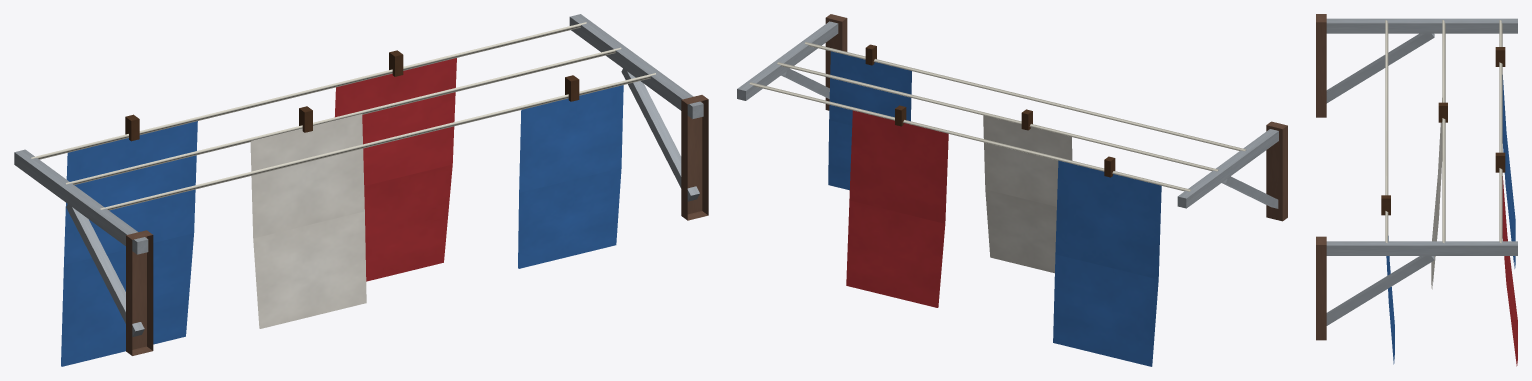
Rendered from FK_LaundryLine.fbx.
3 views of the same model, side by side, from view 1: azimuth 30°, elevation 25°; view 2: azimuth 150°, elevation 25°; view 3: azimuth 270°, elevation 25° (orthographic). The views are drawn at different scales.
Parts seen in each view (by area): view 1: FK_LaundryLine; view 2: FK_LaundryLine; view 3: FK_LaundryLine.
Part boxes in pixels (x1=…): FK_LaundryLine: x1=14, y1=14, x2=708, y2=366; FK_LaundryLine: x1=737, y1=14, x2=1287, y2=366; FK_LaundryLine: x1=1316, y1=14, x2=1517, y2=366.
Size of the model in its own units: 1.25 by 0.4962 by 0.46.
1 material, 1 textured.
